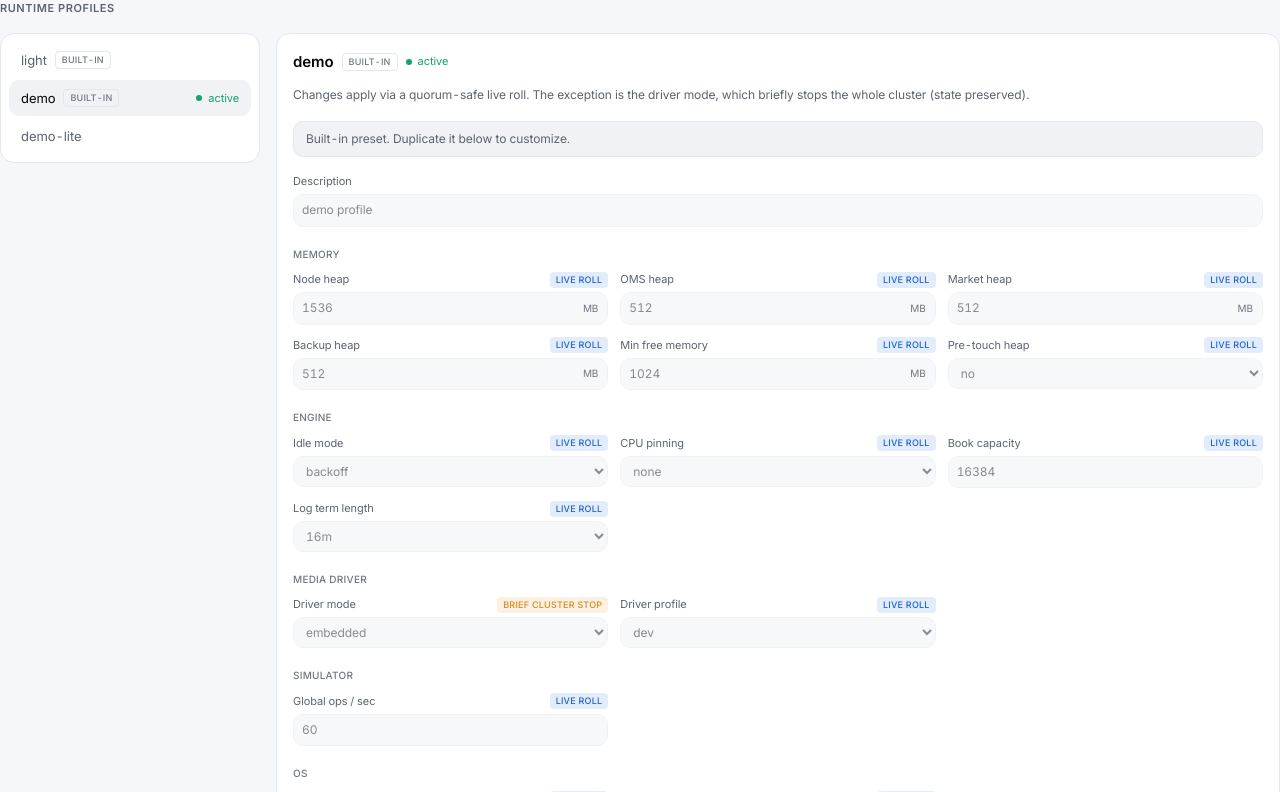
Test: ProfilesEditor › surfaces a 400 from save as a sticky error toast with the server text
Click the button "demo-lite": (130, 136) [9,118,251,154]
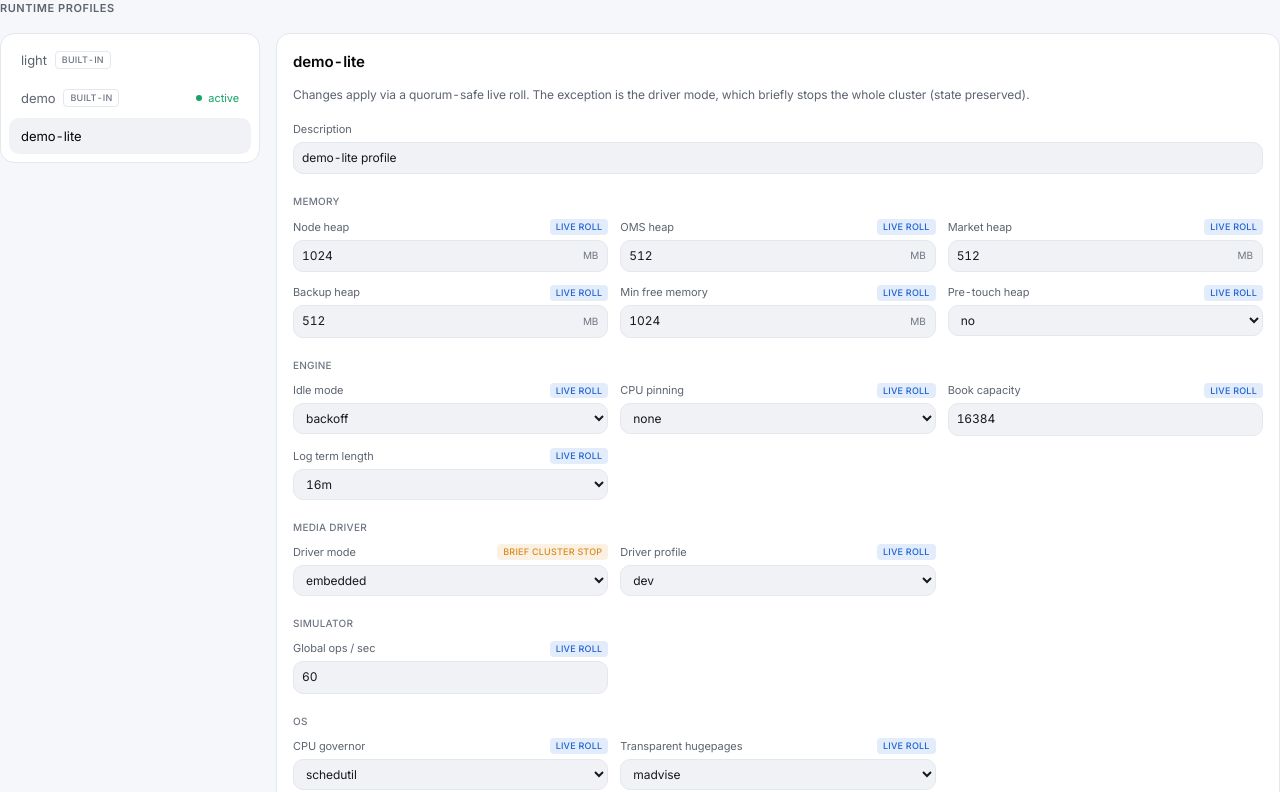
Replace the text in the number field labelled "Node heap" with "4096": (451, 256) [293,240,608,272]
(page scrolled)
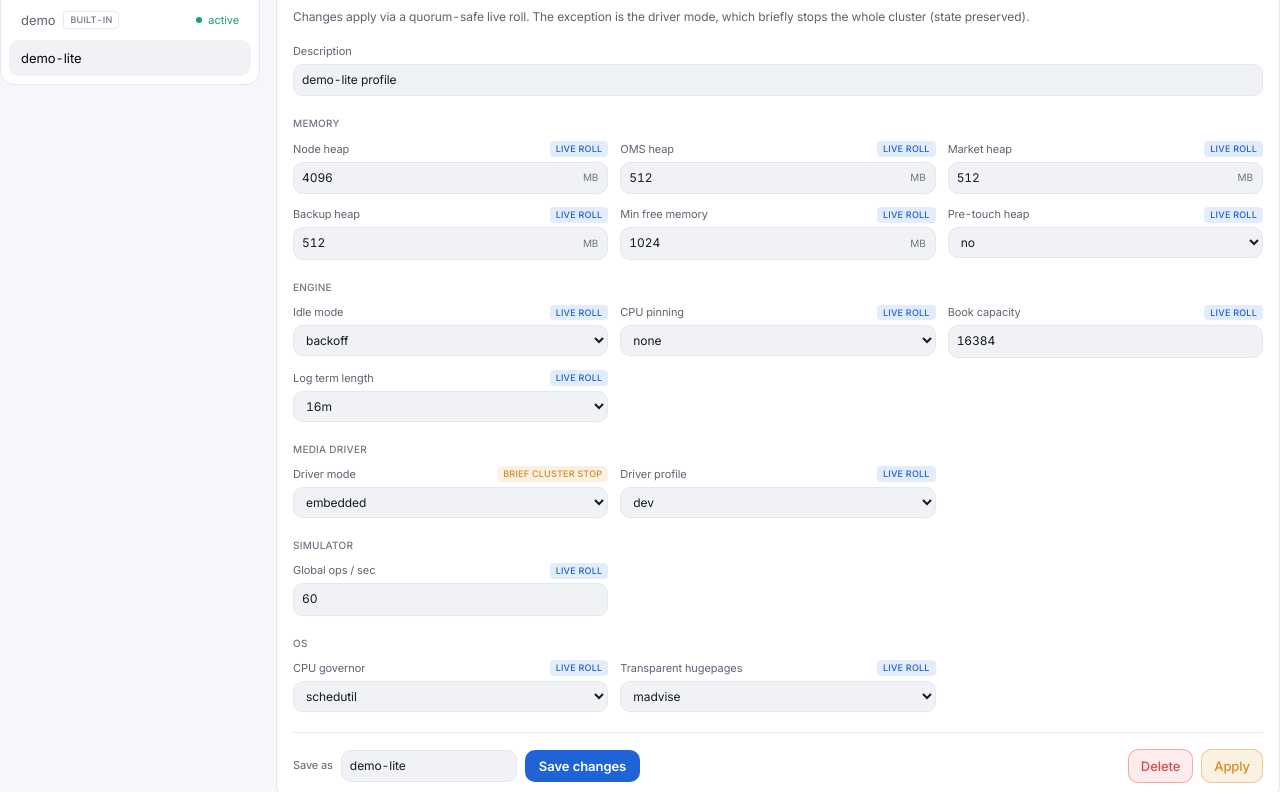
Click the button "Save changes": (583, 766) [525,750,640,782]
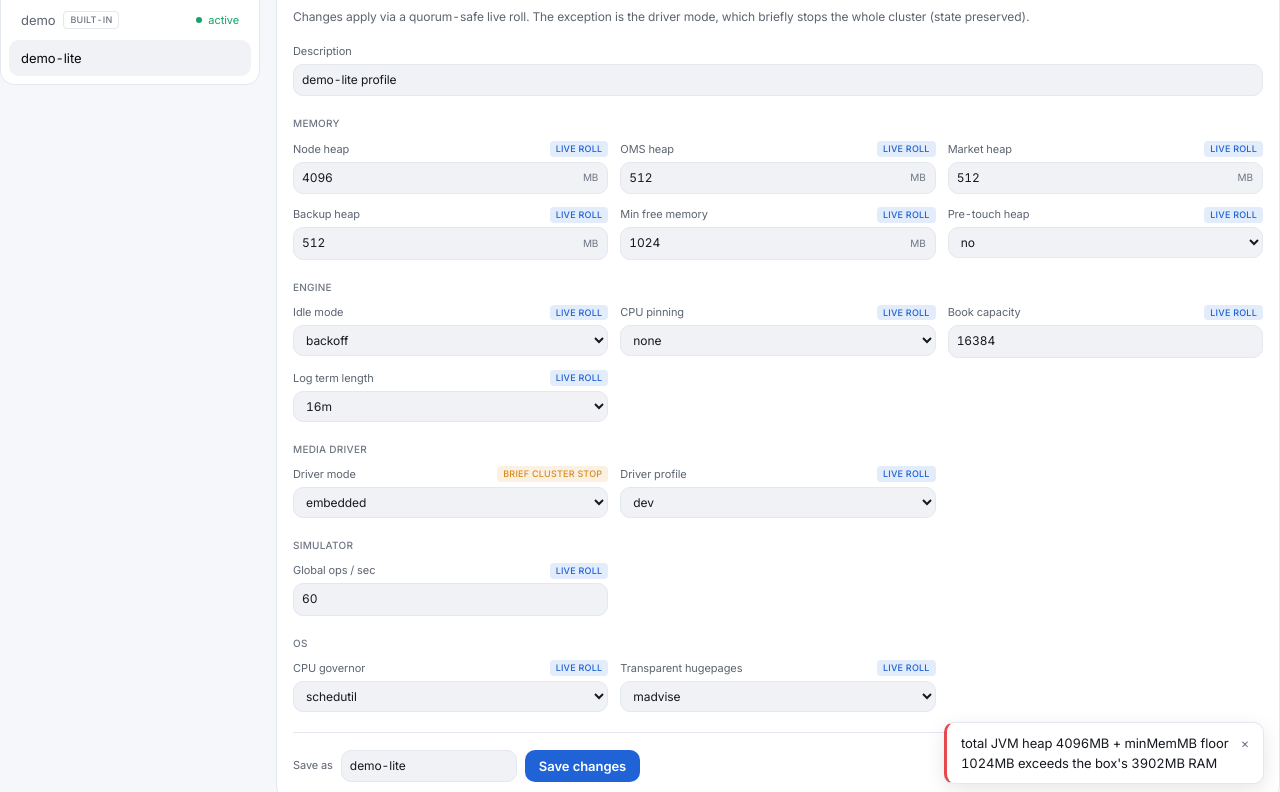
Now the message shows "exceeds the box's 3902MB RAM", box [961,735,1228,771]
